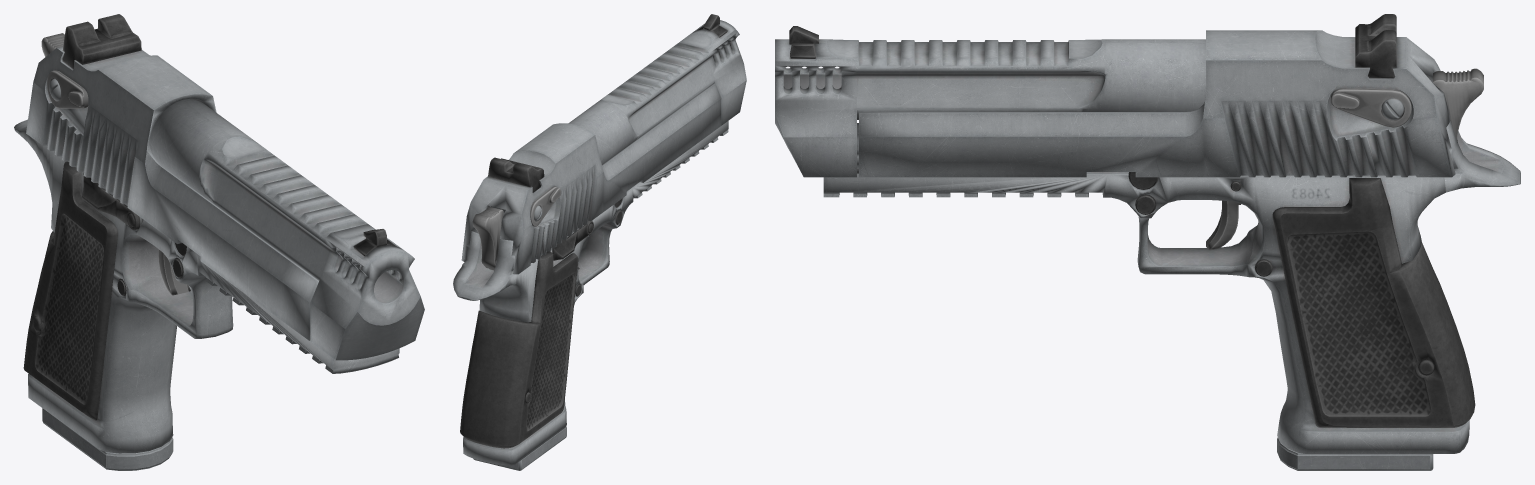
Rendered from desert_eagle.glb.
3 views of the same model, side by side, from view 1: azimuth 30°, elevation 25°; view 2: azimuth 150°, elevation 25°; view 3: azimuth 270°, elevation 25° (orthographic). The views are drawn at different scales.
Parts seen in each view (by area): view 1: Barrel, Slide, Frame, Grip, Ironsights Back, magazine, Slide Stop, Safety, Trigger, Ironsights Front; view 2: Slide, Grip, Barrel, Frame, Hammer, Ironsights Back, magazine, Slide Stop, Safety, Ironsights Front; view 3: Slide, Barrel, Grip, Frame, magazine, Ironsights Back, Safety, Hammer, FrameScews, Trigger, Ironsights Front.
Boxes of the visible parts, left/top/right/bottom form: Barrel: left=149, top=99, right=424, bottom=360; Slide: left=26, top=46, right=318, bottom=340; Frame: left=14, top=119, right=399, bottom=453; Grip: left=23, top=161, right=176, bottom=420; Ironsights Back: left=62, top=14, right=141, bottom=69; magazine: left=42, top=408, right=173, bottom=470; Slide Stop: left=82, top=173, right=140, bottom=230; Safety: left=47, top=70, right=88, bottom=108; Trigger: left=158, top=249, right=190, bottom=295; Ironsights Front: left=353, top=229, right=396, bottom=256; Slide: left=461, top=83, right=721, bottom=274; Grip: left=460, top=251, right=578, bottom=448; Barrel: left=568, top=20, right=746, bottom=164; Frame: left=453, top=121, right=728, bottom=465; Hammer: left=472, top=206, right=503, bottom=270; Ironsights Back: left=488, top=157, right=544, bottom=192; magazine: left=473, top=213, right=566, bottom=470; Slide Stop: left=552, top=221, right=593, bottom=260; Safety: left=530, top=186, right=561, bottom=226; Ironsights Front: left=697, top=14, right=727, bottom=37; Slide: left=857, top=30, right=1455, bottom=177; Barrel: left=775, top=39, right=1205, bottom=177; Grip: left=1272, top=178, right=1475, bottom=427; Frame: left=823, top=121, right=1520, bottom=453; magazine: left=1277, top=437, right=1433, bottom=470; Ironsights Back: left=1355, top=14, right=1396, bottom=78; Safety: left=1331, top=88, right=1411, bottom=127; Hammer: left=1433, top=68, right=1483, bottom=142; FrameScews: left=1128, top=172, right=1272, bottom=276; Trigger: left=1206, top=200, right=1240, bottom=250; Ironsights Front: left=789, top=26, right=818, bottom=58.
Size of the model in its own units: 0.0325 by 0.1485 by 0.2347.
Materials: 6 (6 with a texture image).
